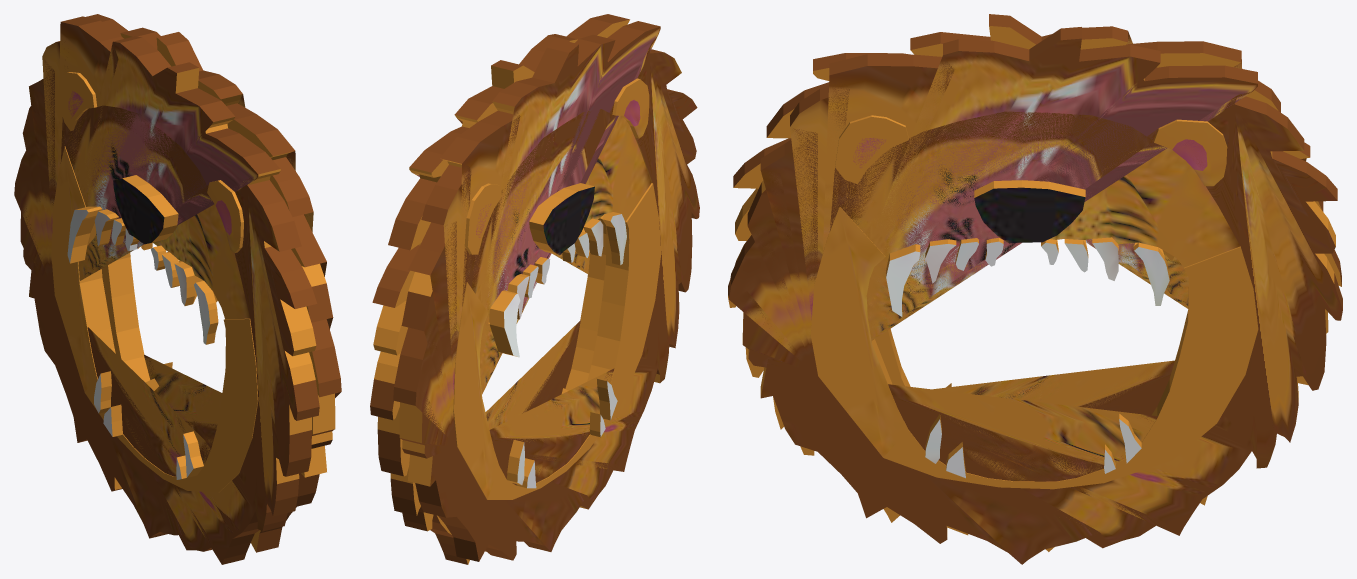
File: rion.fbx
The picture shows the model from 3 angles, left to right: view 1: azimuth 30°, elevation 25°; view 2: azimuth 150°, elevation 25°; view 3: azimuth 270°, elevation 25°; orthographic projection. The views are drawn at different scales.
Visible parts, largest first — view 1: 平面.002; view 2: 平面.002; view 3: 平面.002.
Boxes of the visible parts, left/top/right/bottom form: 平面.002: left=14, top=14, right=341, bottom=564; 平面.002: left=370, top=14, right=699, bottom=564; 平面.002: left=728, top=14, right=1342, bottom=564.
Size of the model in its own units: 78.25 by 391 by 413.
Materials: 1 (1 with a texture image).
